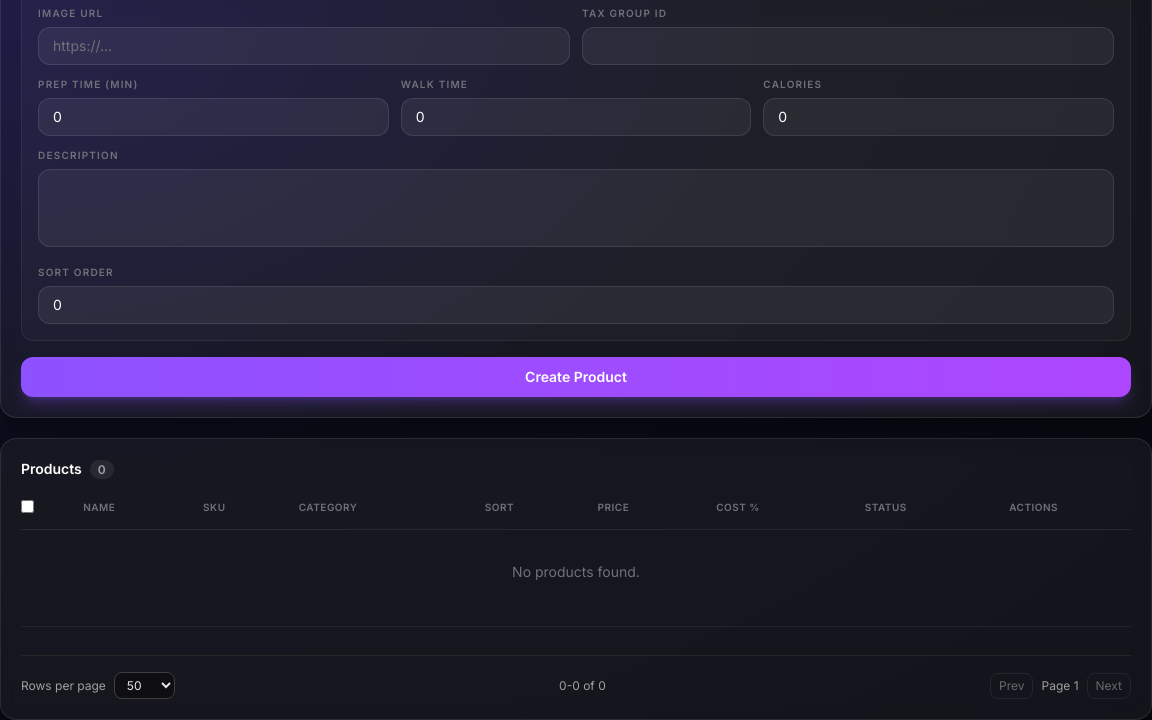
Scenario: MenuProductsPage — form validation › shows error when trying to create product without name
(page scrolled)
Click the button "Create Product".
click(576, 377)  # box [21, 357, 1131, 397]
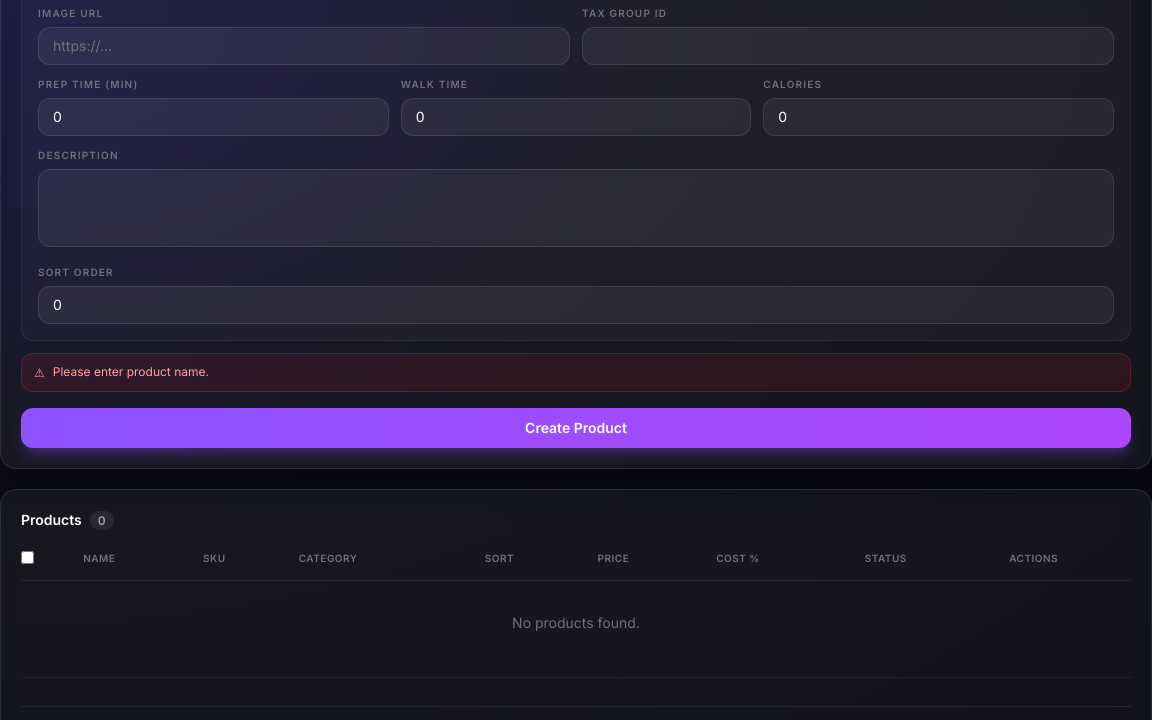
Check: the text "⚠ Please enter product name." is shown, box [21, 353, 1131, 392]
